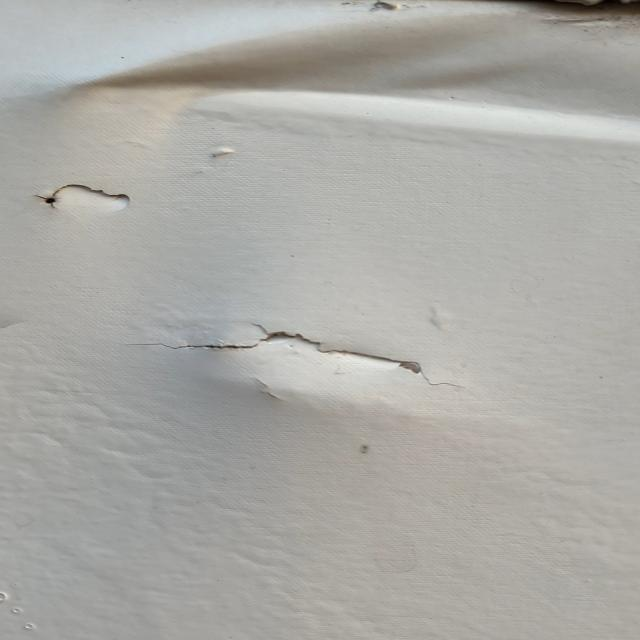Dents or Deformation: (105, 14, 640, 140)
Scratches: (106, 312, 487, 393), (23, 165, 161, 218)
